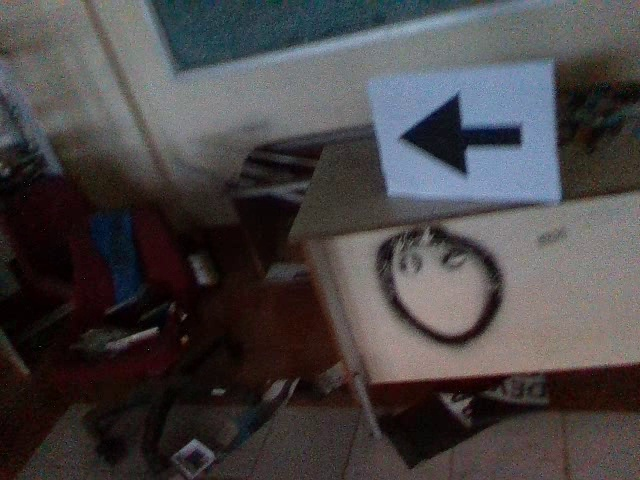Left: (392, 85, 530, 187)
